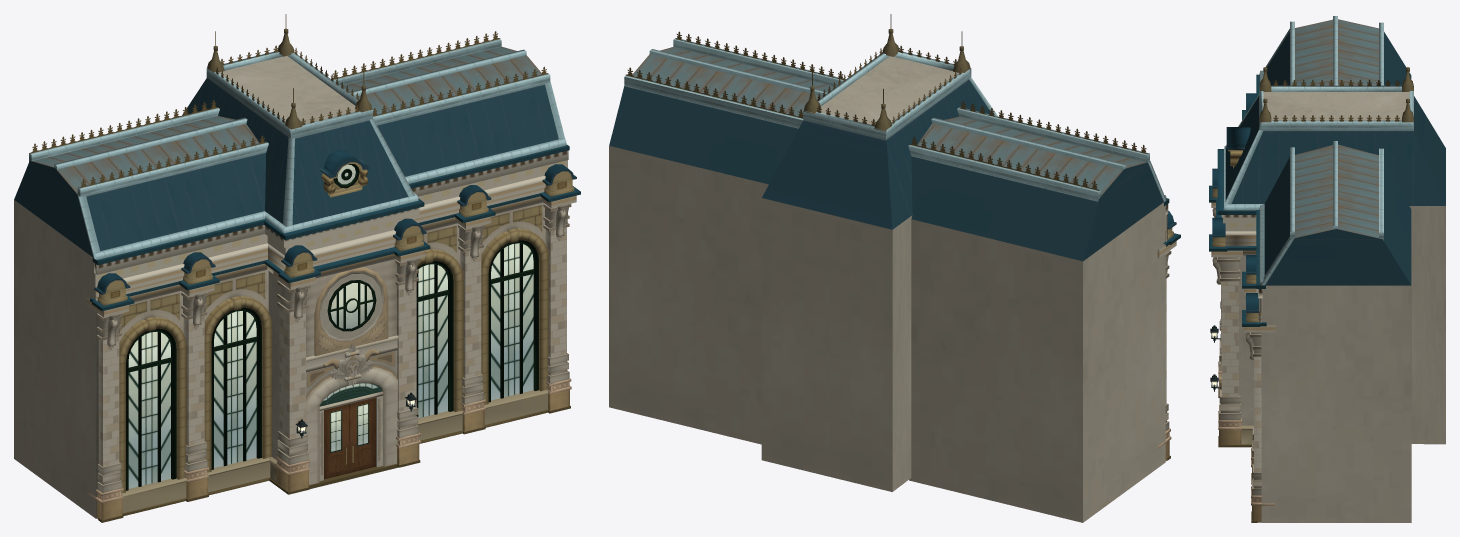
The model's file is t1_b_miare_station.glb.
The picture shows the model from 3 angles, left to right: view 1: azimuth 30°, elevation 25°; view 2: azimuth 150°, elevation 25°; view 3: azimuth 270°, elevation 25°; orthographic projection. The views are drawn at different scales.
Visible parts, largest first — view 1: nomerge_t1_b_miare_station_a_model; view 2: nomerge_t1_b_miare_station_a_model; view 3: nomerge_t1_b_miare_station_a_model.
Part boxes in pixels (x1,y1,x2,y2): nomerge_t1_b_miare_station_a_model: [14, 14, 580, 522]; nomerge_t1_b_miare_station_a_model: [609, 14, 1180, 522]; nomerge_t1_b_miare_station_a_model: [1209, 16, 1445, 522].
Bounding box in the file's own units: 29.05 × 22.1 × 13.57.
2 materials, 2 textured.
